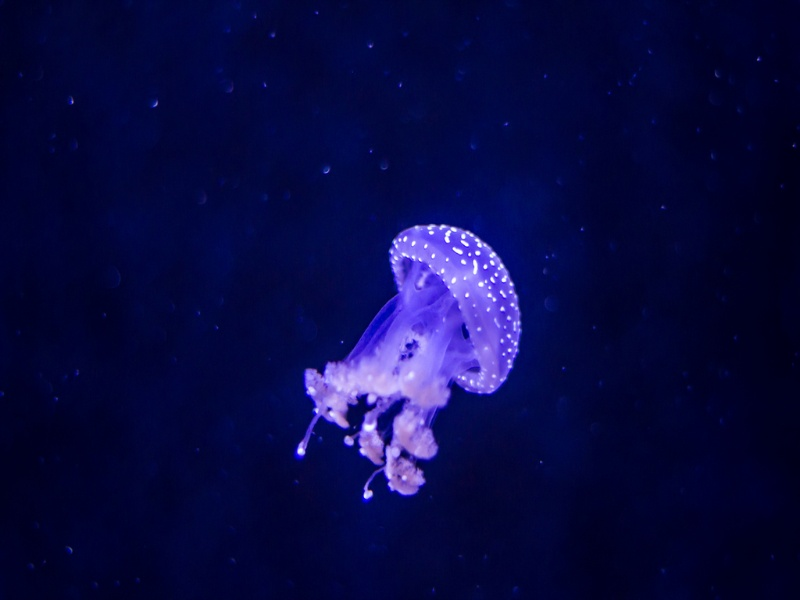Jellyfish: (294, 222, 523, 499)
